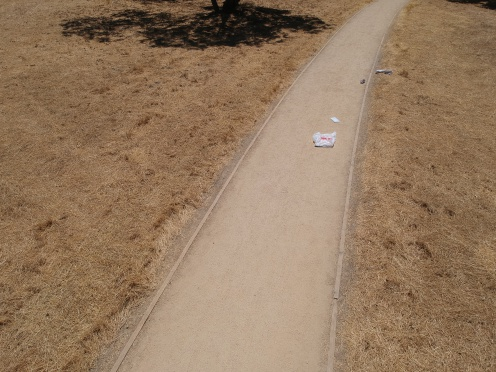can: (357, 76, 369, 87)
plastic bag: (306, 127, 343, 152)
